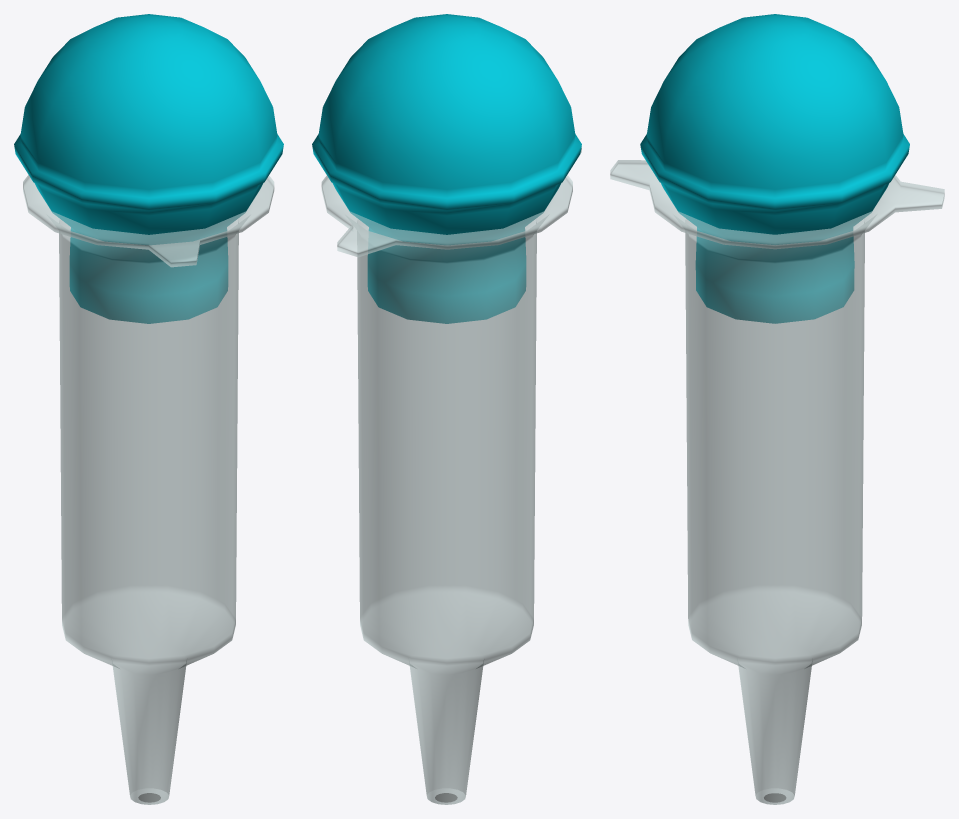
Rendered from bulb_syringe.fbx.
3 views of the same model, side by side, from view 1: azimuth 30°, elevation 25°; view 2: azimuth 150°, elevation 25°; view 3: azimuth 270°, elevation 25° (orthographic).
Visible parts, largest first — view 1: syringe, bulb; view 2: syringe, bulb; view 3: syringe, bulb.
Boxes of the visible parts, <box> form: syringe: <box>23,175,274,804</box>; bulb: <box>14,14,283,323</box>; syringe: <box>321,145,581,804</box>; bulb: <box>312,14,581,323</box>; syringe: <box>610,160,944,804</box>; bulb: <box>640,14,909,323</box>.
Bounding box in the file's own units: 3.1 × 9.78 × 3.85.
